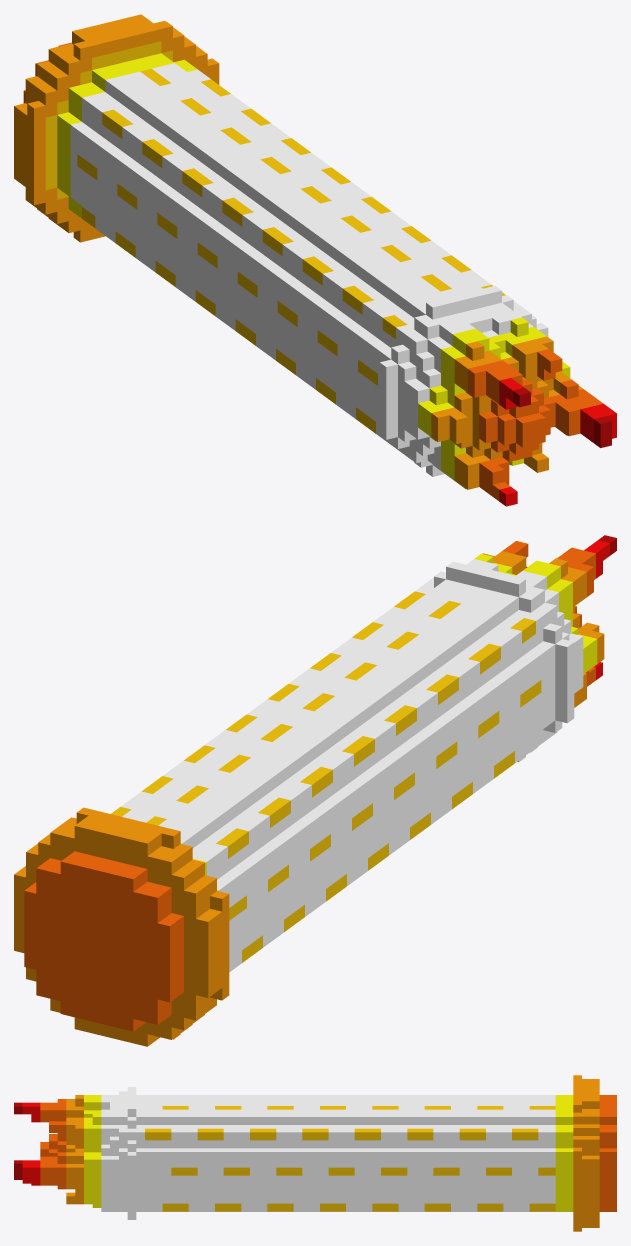
File: fire_pillar_4.obj
3 renders of one model, top to bottom at view 1: azimuth 30°, elevation 25°; view 2: azimuth 150°, elevation 25°; view 3: azimuth 270°, elevation 25°, orthographic. The views are drawn at different scales.
Size of the model in its own units: 1.6 by 1.6 by 6.9.
Materials: 1 (1 with a texture image).
